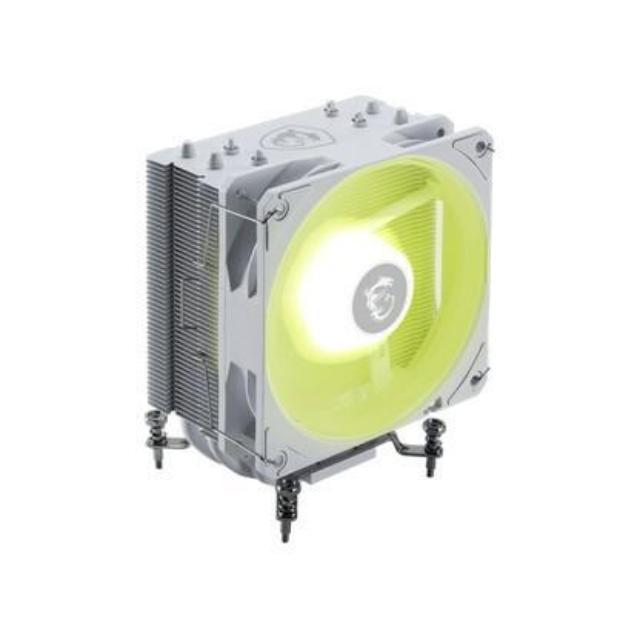CPU_Fan: (109, 74, 511, 542)
